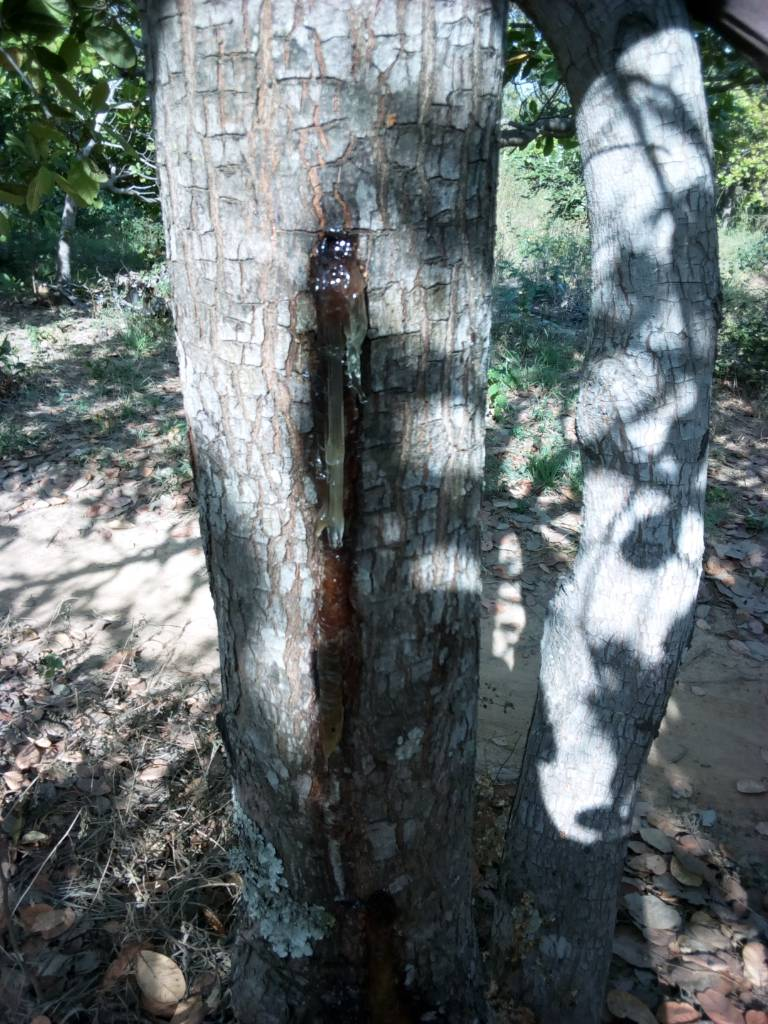Gommose: (291, 225, 374, 878)
